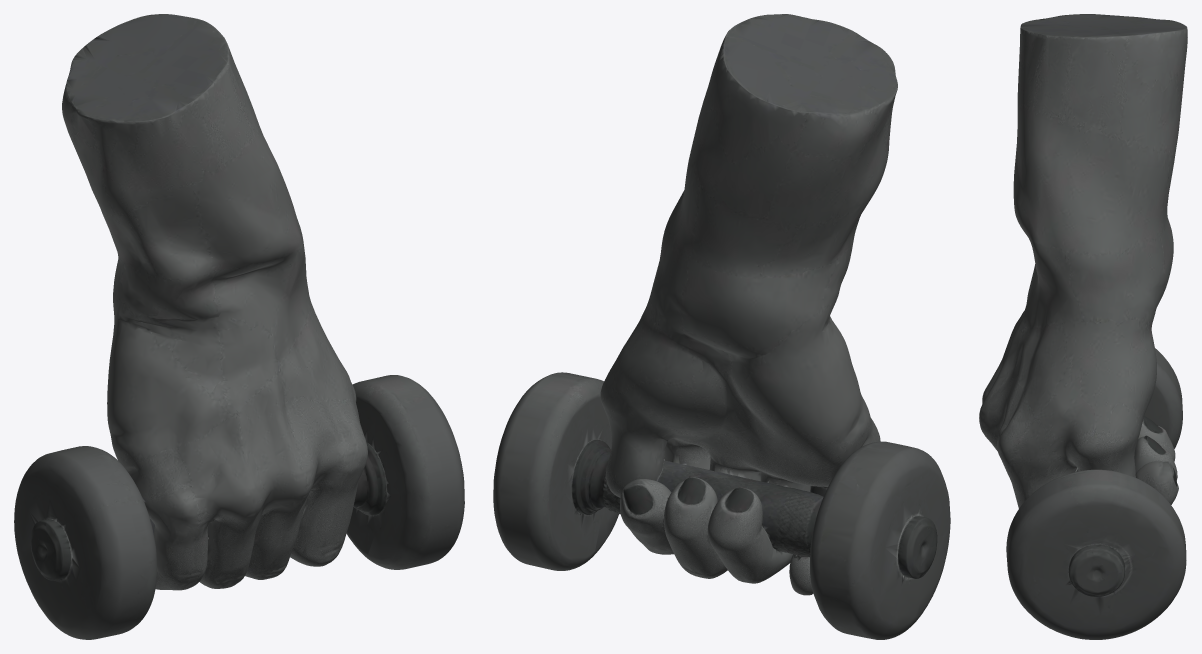
Rendered from hand.glb.
3 views of the same model, side by side, from view 1: azimuth 30°, elevation 25°; view 2: azimuth 150°, elevation 25°; view 3: azimuth 270°, elevation 25° (orthographic). The views are drawn at different scales.
Size of the model in its own units: 1.39 by 1.9 by 0.6928.
Materials: 1 (1 with a texture image).
